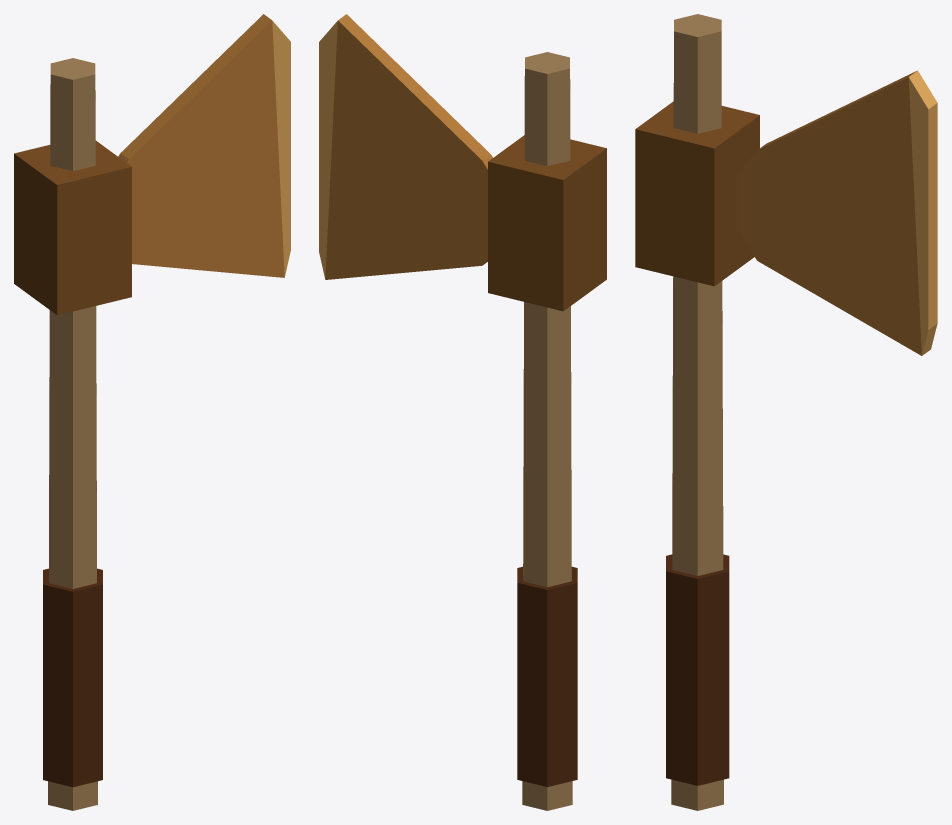
The model's file is wpn_melee_1h_2.glb.
The picture shows the model from 3 angles, left to right: view 1: azimuth 30°, elevation 25°; view 2: azimuth 150°, elevation 25°; view 3: azimuth 330°, elevation 25°; orthographic projection. The views are drawn at different scales.
Visible parts, largest first — view 1: wpn_melee_1h_2; view 2: wpn_melee_1h_2; view 3: wpn_melee_1h_2.
Part boxes in pixels (x1,y1,x2,y2): wpn_melee_1h_2: [14, 14, 290, 810]; wpn_melee_1h_2: [319, 14, 606, 810]; wpn_melee_1h_2: [635, 14, 937, 810].
Size of the model in its own units: 0.205 by 0.56 by 0.06.
